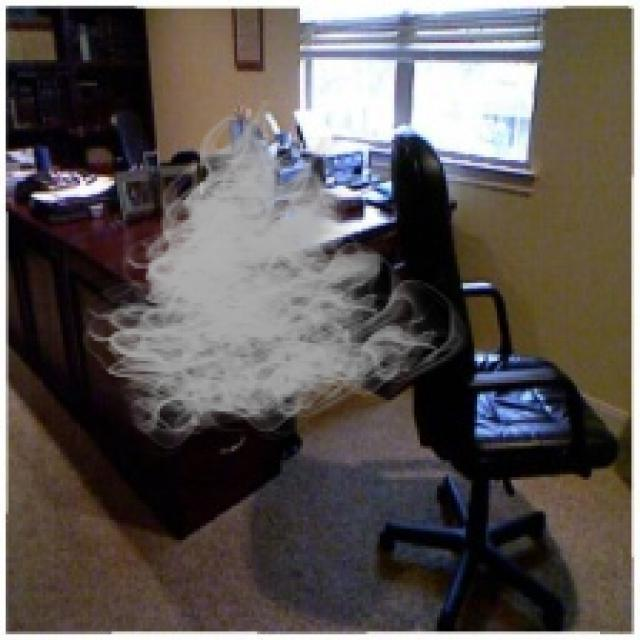Smoke: (71, 100, 472, 457)
